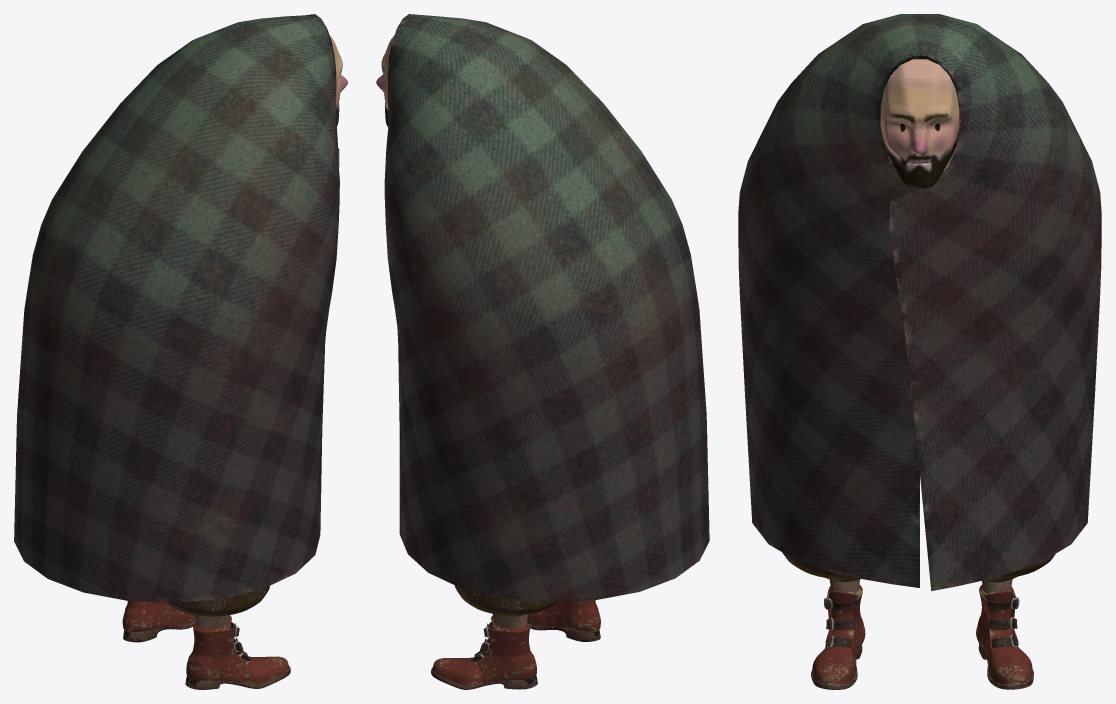
The model's file is CH_Charater_01.fbx.
3 renders of one model, left to right at view 1: azimuth 30°, elevation 25°; view 2: azimuth 150°, elevation 25°; view 3: azimuth 270°, elevation 25°, orthographic. The views are drawn at different scales.
Parts seen in each view (by area): view 1: Character_comb.001; view 2: Character_comb.001; view 3: Character_comb.001.
Boxes of the visible parts, box(x1,y1,x2,y2) form: Character_comb.001: box(14, 14, 347, 689); Character_comb.001: box(376, 14, 709, 689); Character_comb.001: box(738, 14, 1101, 689).
Bounding box in the file's own units: 81.03 × 152 × 73.93.
